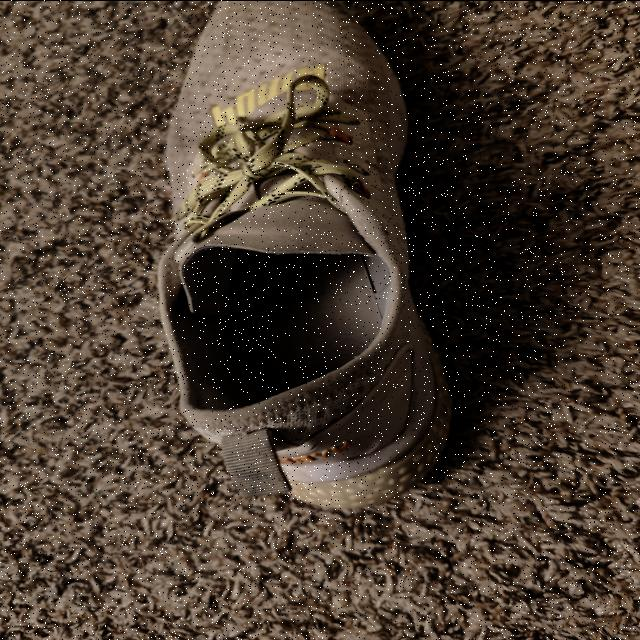white shoes: (157, 2, 441, 496)
